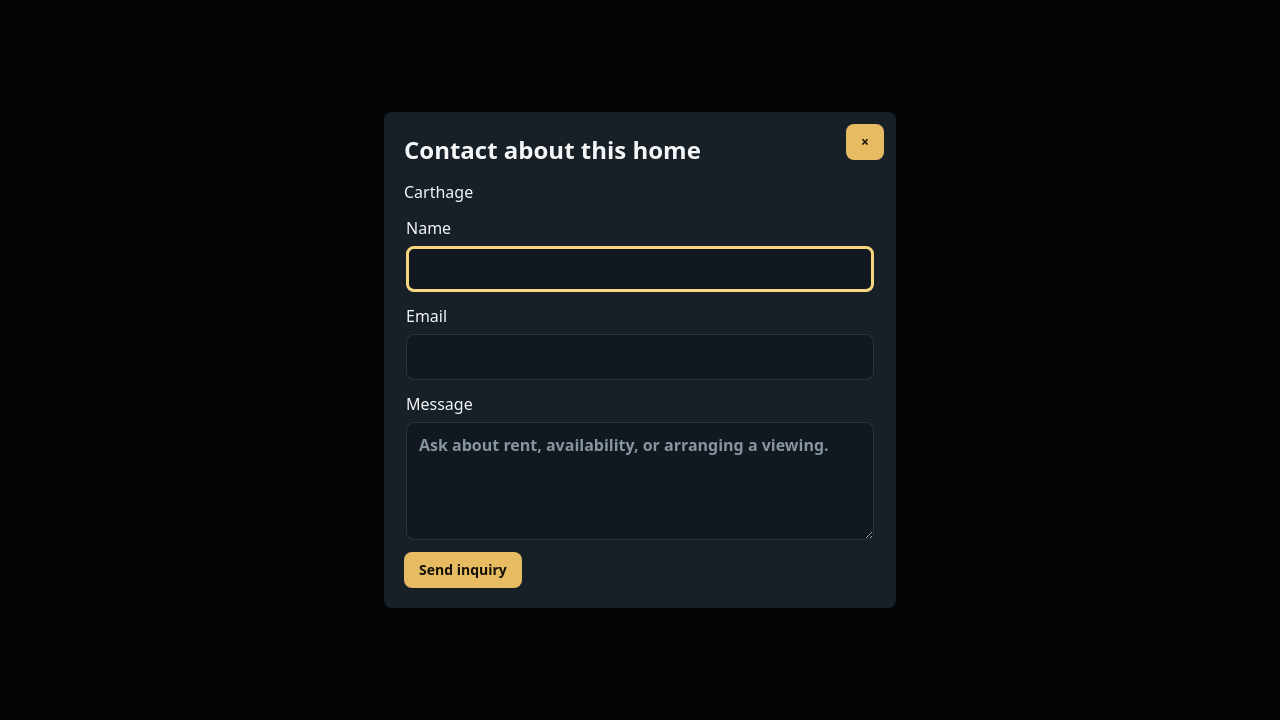
retains identical submission details and id after failure, then acknowledges receipt
Type "Test sender" into the field named "name" at (640, 269), box x1=406 y1=246 x2=874 y2=292
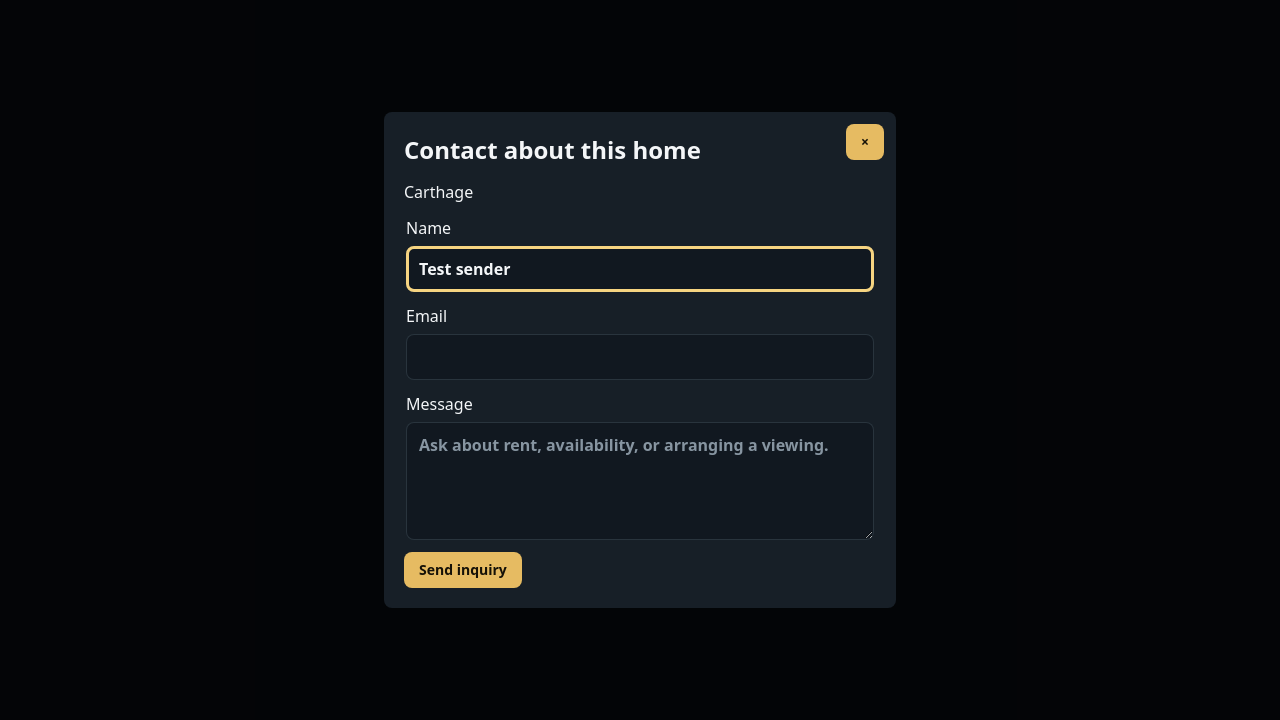
Type "sender@example.invalid" into the field named "email" at (640, 357), box x1=406 y1=334 x2=874 y2=380
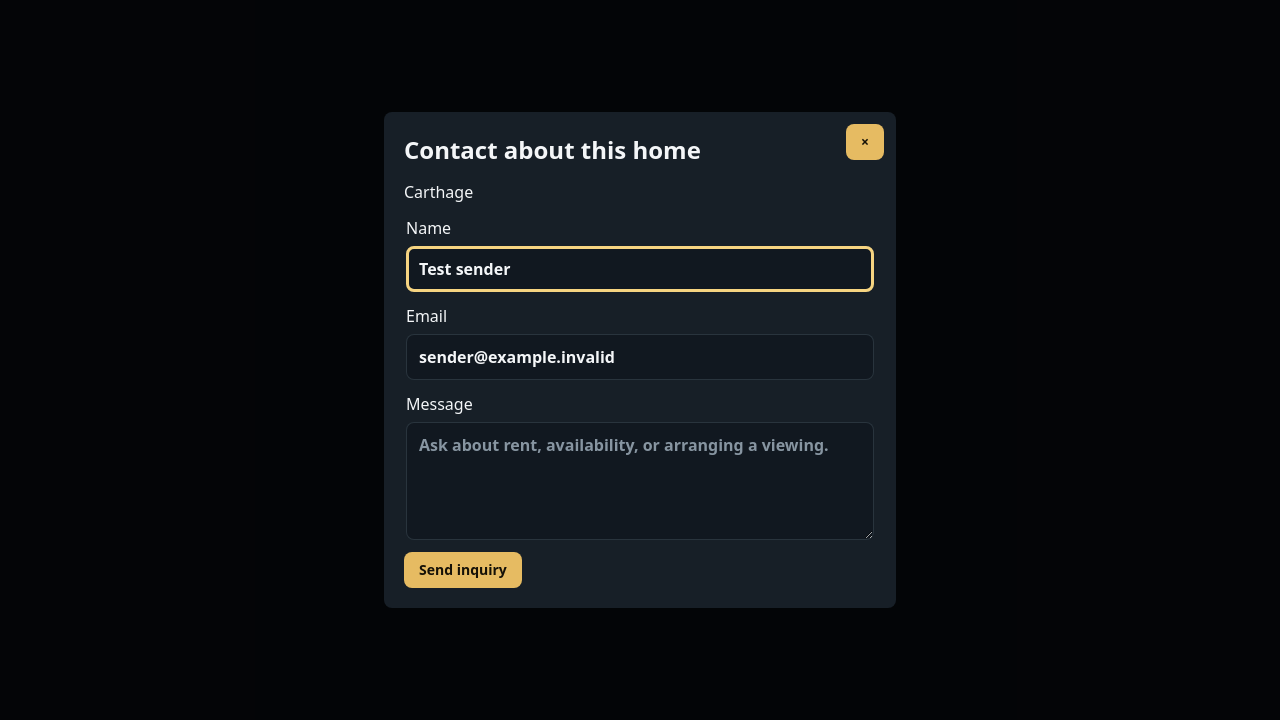
Type "Is this available?" into the text box named "message" at (640, 481), box x1=406 y1=422 x2=874 y2=540
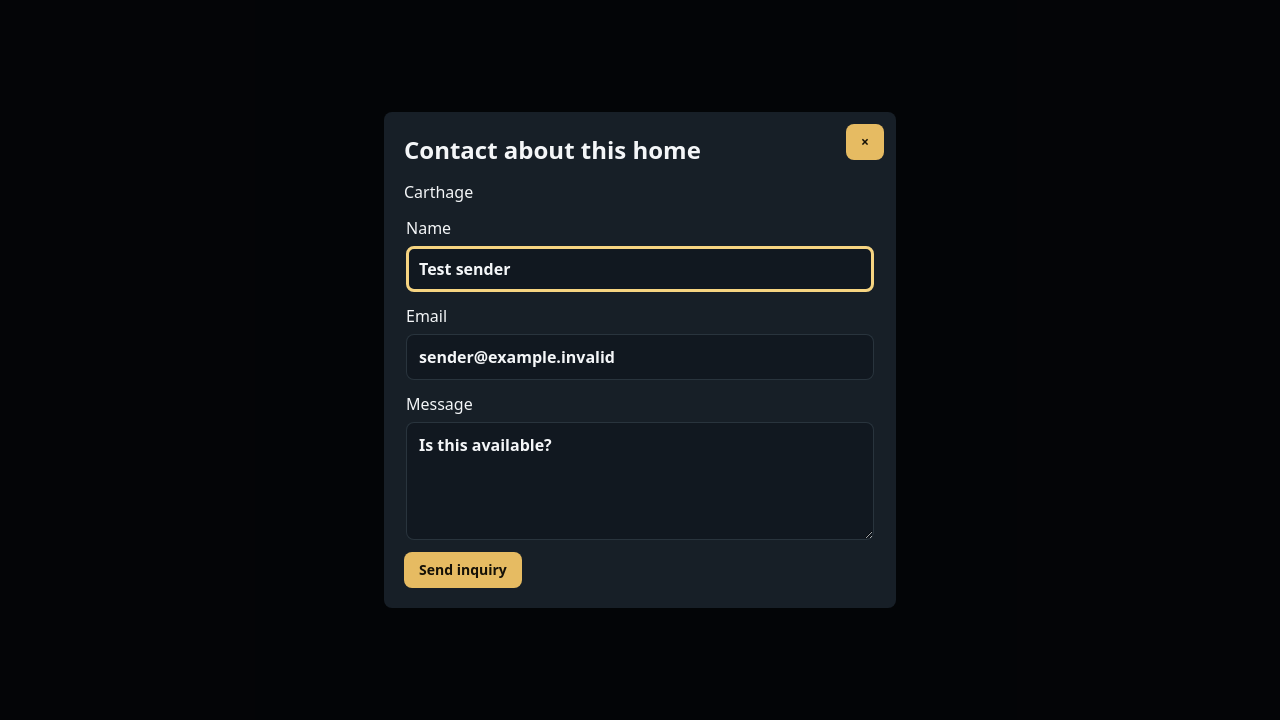
Submit the form, box x1=404 y1=216 x2=876 y2=588
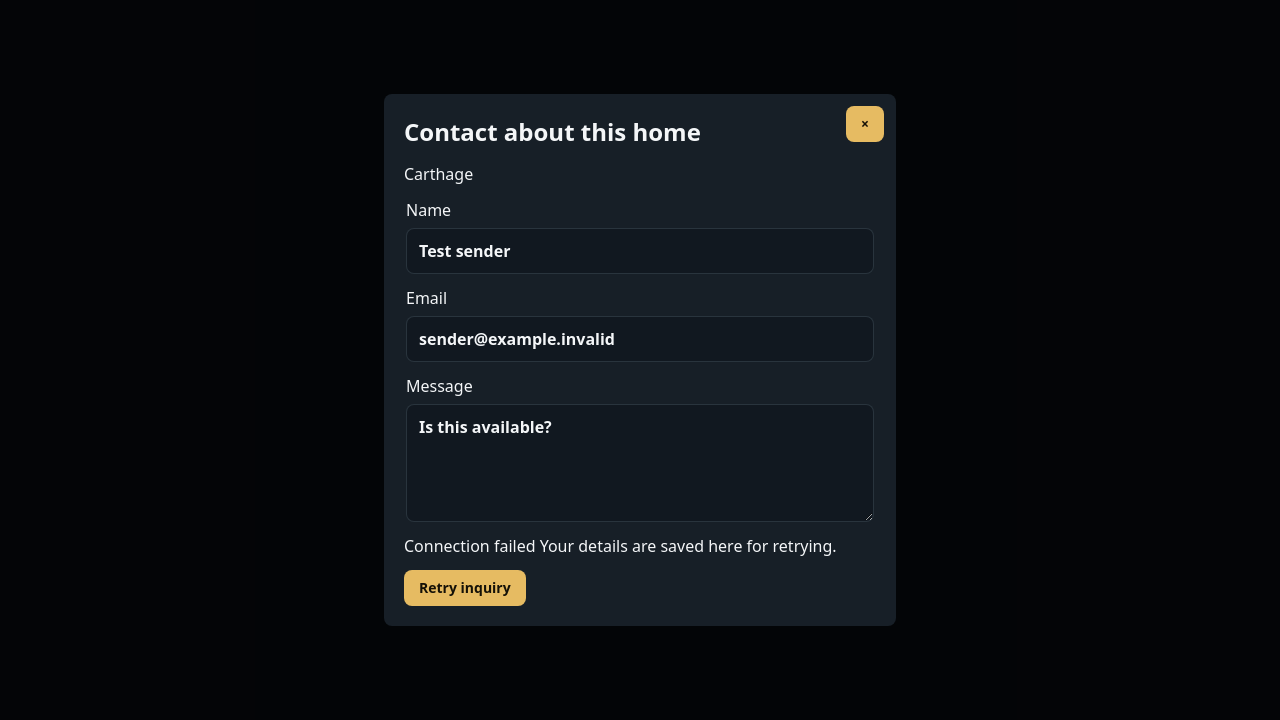
Now the text "Retry inquiry" is shown, box x1=404 y1=570 x2=526 y2=606
Submit the form, box x1=404 y1=198 x2=876 y2=606
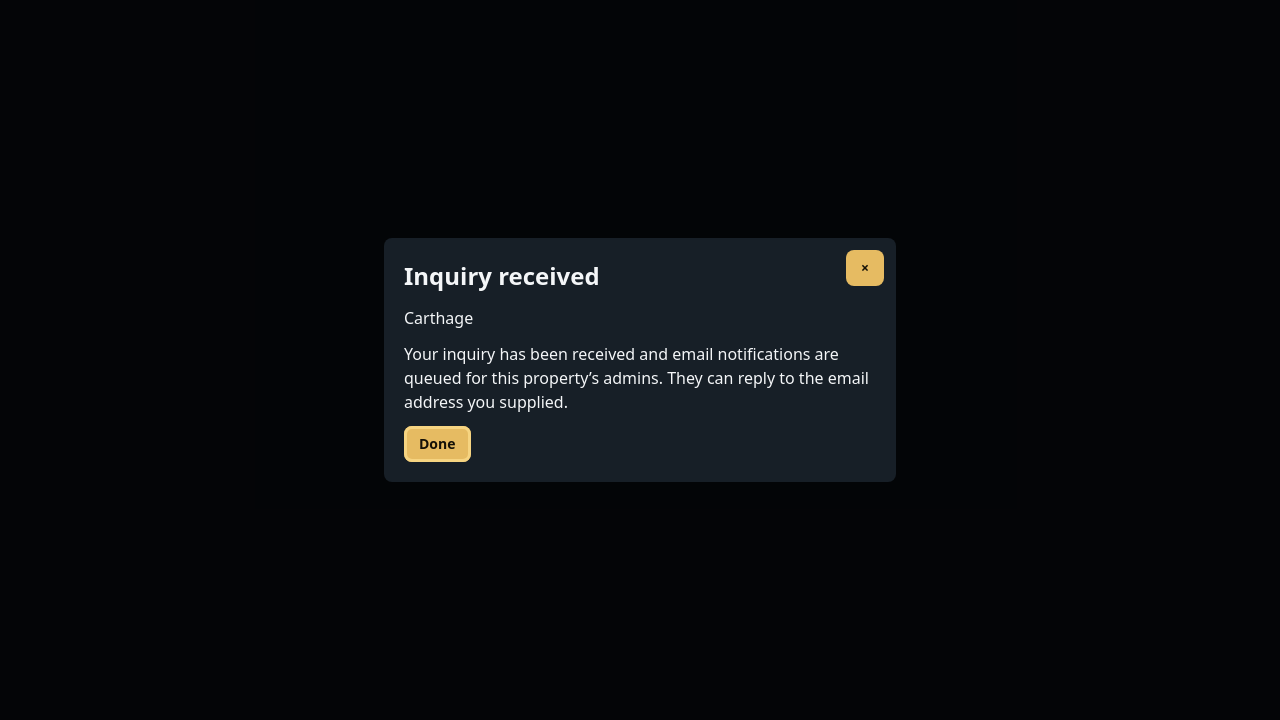
Now the text "Inquiry received" is shown, box x1=404 y1=259 x2=600 y2=292
